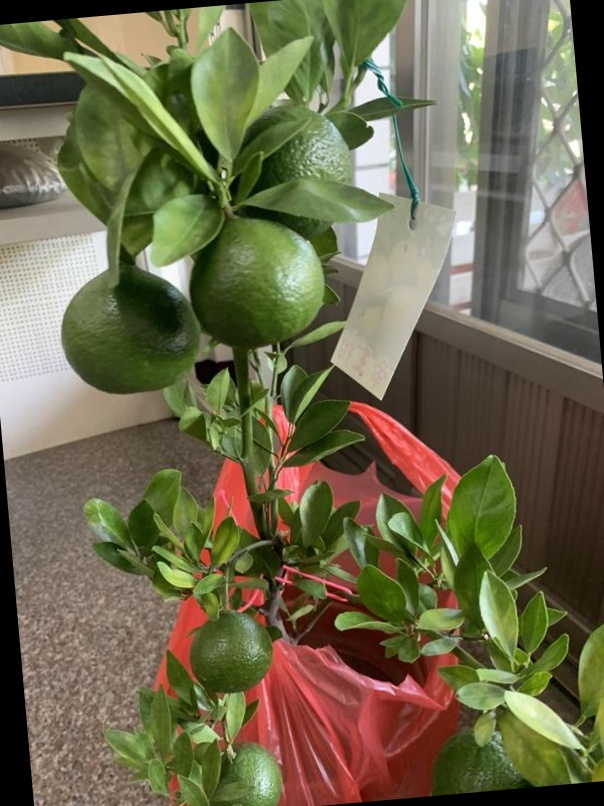Tangerine: (56, 266, 202, 396), (192, 214, 327, 349), (187, 608, 276, 692)
